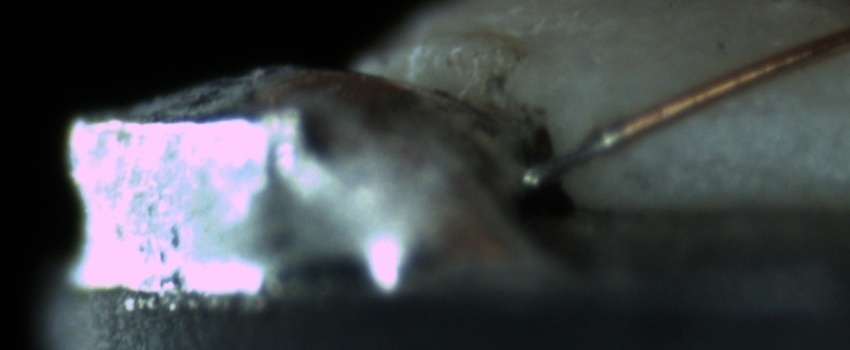TS: (525, 126, 629, 188)
TTCW: (515, 112, 643, 192)
